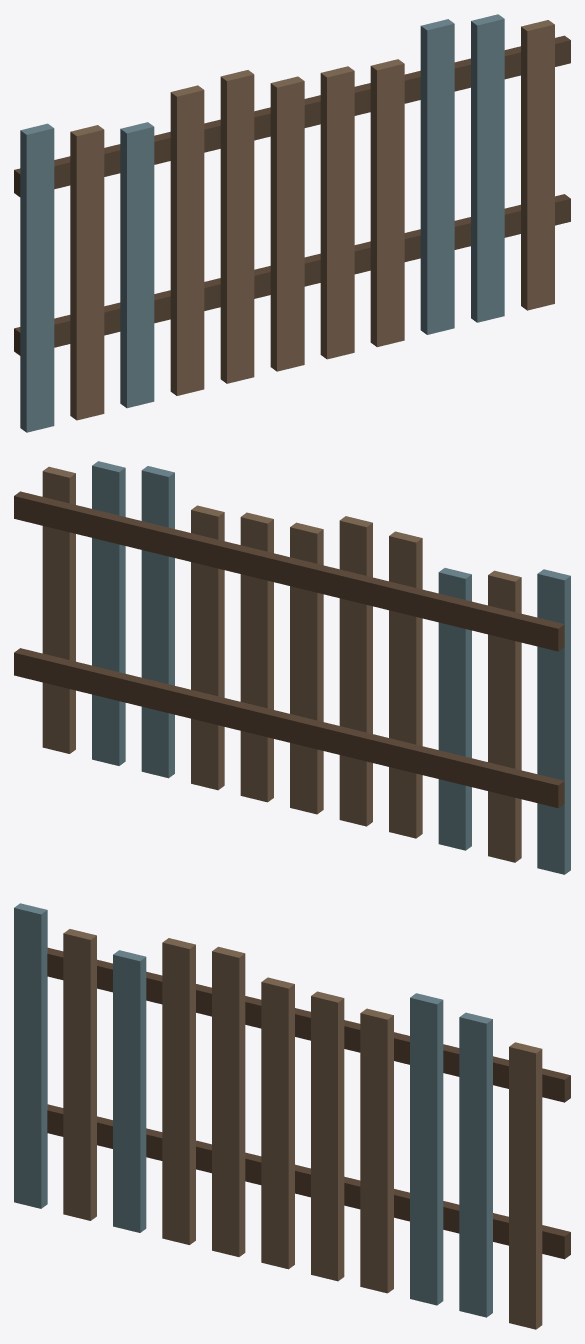
The model's file is bahce-ahsap-cit-2m.glb.
3 views of the same model, one above another, from view 1: azimuth 30°, elevation 25°; view 2: azimuth 150°, elevation 25°; view 3: azimuth 330°, elevation 25° (orthographic).
Parts seen in each view (by area): view 1: ahsap, deniz_ahsap, ahsap_koyu; view 2: ahsap, deniz_ahsap, ahsap_koyu; view 3: ahsap, deniz_ahsap, ahsap_koyu.
Part boxes in pixels (x1=…): ahsap: x1=70, y1=20, x2=554, y2=420; deniz_ahsap: x1=20, y1=14, x2=504, y2=432; ahsap_koyu: x1=14, y1=35, x2=570, y2=355; ahsap: x1=42, y1=466, x2=521, y2=862; deniz_ahsap: x1=92, y1=461, x2=570, y2=874; ahsap_koyu: x1=14, y1=491, x2=564, y2=808; ahsap: x1=63, y1=929, x2=542, y2=1329; deniz_ahsap: x1=14, y1=903, x2=492, y2=1317; ahsap_koyu: x1=47, y1=947, x2=570, y2=1259.
Size of the model in its own units: 2 by 1.06 by 0.0801.
